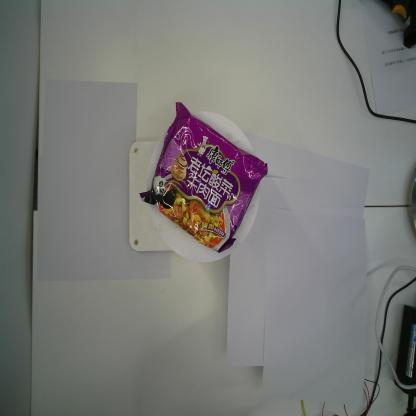Instant Noodles: (137, 100, 267, 254)
